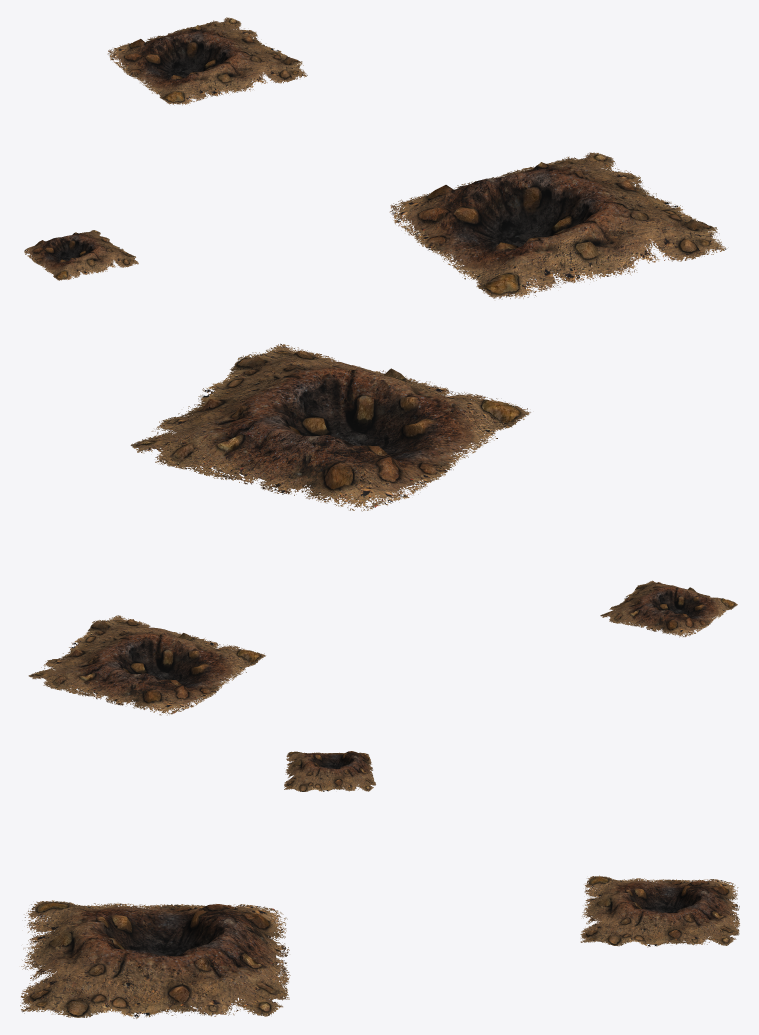
Rendered from craters_small.dae.
3 renders of one model, top to bottom at view 1: azimuth 30°, elevation 25°; view 2: azimuth 150°, elevation 25°; view 3: azimuth 270°, elevation 25°, orthographic. The views are drawn at different scales.
Visible parts, largest first — view 1: craters; view 2: craters; view 3: craters.
Boxes of the visible parts, bbox=[...] form: craters: bbox=[24, 17, 726, 299]; craters: bbox=[28, 343, 737, 715]; craters: bbox=[20, 751, 739, 1018].
Bounding box in the file's own units: 51.1 × 58.97 × 3.54.
1 material, 1 textured.
